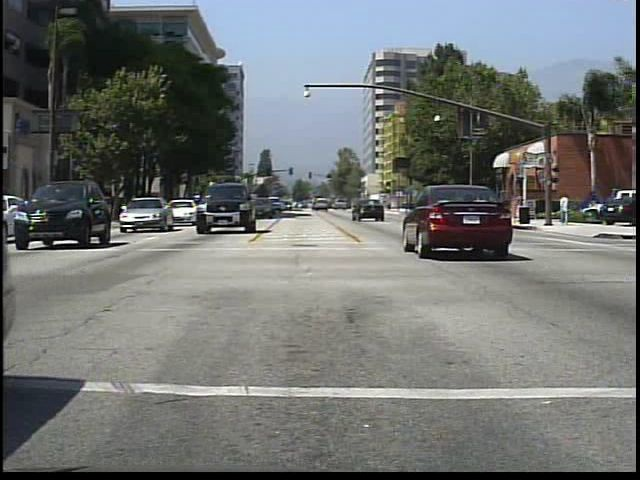person: (511, 189, 528, 227), (557, 189, 574, 225)
